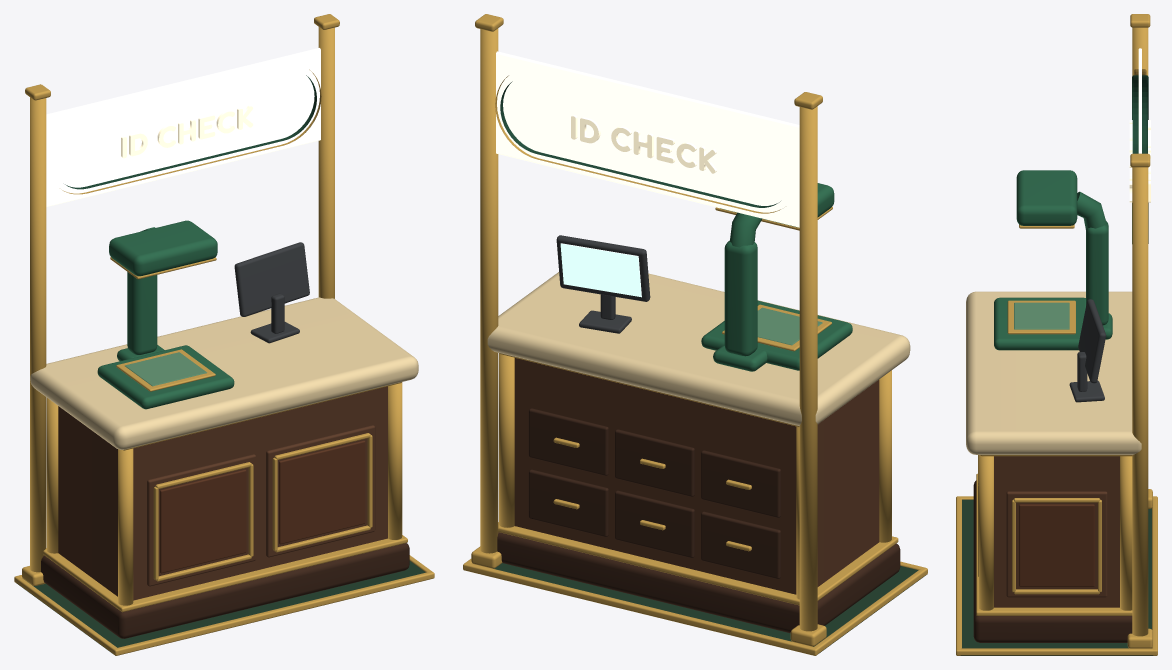
File: security_booth_tier3.glb
3 views of the same model, side by side, from view 1: azimuth 30°, elevation 25°; view 2: azimuth 150°, elevation 25°; view 3: azimuth 270°, elevation 25° (orthographic). The views are drawn at different scales.
Visible parts, largest first — view 1: Top, Body, SignGlow, Plinth, RearPost-1, Front0Inset, Front1Inset, RearPost1, LampHead, Monitor, PlinthBrass, Mat (+14 smaller); view 2: Body, SignGlow, Top, Plinth, RearPost-1, RearPost1, PlinthBrass, Drawer20, Drawer21, Drawer01, Drawer10, Drawer11 (+18 smaller); view 3: Top, Body, RearPost1, EndInset, Plinth, Mat, LampHead, End, ScanPad, Column1-1, Column11, ArmCol (+18 smaller).
Part boxes in pixels (<box>): Top: <box>30,297,418,449</box>; Body: <box>58,386,387,600</box>; SignGlow: <box>46,48,320,206</box>; Plinth: <box>41,543,409,638</box>; RearPost-1: <box>30,97,46,572</box>; Front0Inset: <box>160,469,246,573</box>; Front1Inset: <box>279,440,365,544</box>; RearPost1: <box>318,27,334,298</box>; LampHead: <box>109,220,217,276</box>; Monitor: <box>234,242,309,316</box>; PlinthBrass: <box>43,535,407,612</box>; Mat: <box>16,561,425,655</box>; Body: <box>514,358,879,594</box>; SignGlow: <box>496,51,799,227</box>; Top: <box>487,272,910,426</box>; Plinth: <box>497,532,900,633</box>; RearPost-1: <box>799,106,817,631</box>; RearPost1: <box>480,28,498,553</box>; PlinthBrass: <box>498,522,898,605</box>; Drawer20: <box>528,469,608,536</box>; Drawer21: <box>528,408,608,475</box>; Drawer01: <box>701,450,780,517</box>; Drawer10: <box>615,490,694,557</box>; Drawer11: <box>615,429,694,496</box>; Top: <box>966,291,1141,454</box>; Body: <box>994,456,1119,607</box>; RearPost1: <box>1132,167,1148,636</box>; EndInset: <box>1019,504,1094,586</box>; Plinth: <box>973,480,1132,642</box>; Mat: <box>960,499,1153,655</box>; LampHead: <box>1016,170,1077,225</box>; End: <box>1006,491,1107,597</box>; ScanPad: <box>994,297,1085,350</box>; Column1-1: <box>978,455,993,610</box>; Column11: <box>1120,456,1132,610</box>; ArmCol: <box>1086,221,1108,325</box>.
Bounding box in the file's own units: 1.45 × 2.15 × 0.8001.
